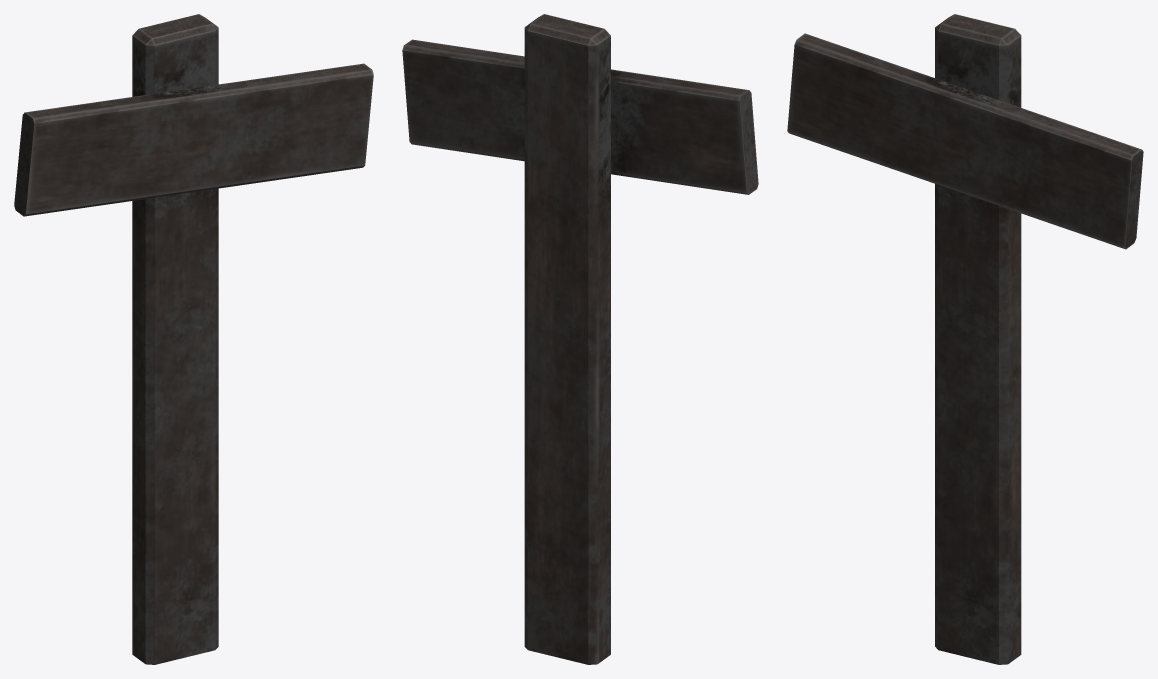
Rendered from road_01.fbx.
The picture shows the model from 3 angles, left to right: view 1: azimuth 30°, elevation 25°; view 2: azimuth 150°, elevation 25°; view 3: azimuth 330°, elevation 25°; orthographic projection.
Parts seen in each view (by area): view 1: road_01; view 2: road_01; view 3: road_01.
Boxes of the visible parts, x1,y1,x2,y2 form: road_01: (14,14,373,664); road_01: (402,14,758,664); road_01: (787,14,1143,664).
Bounding box in the file's own units: 4.36 × 7.5 × 0.6953.
1 material, 1 textured.
